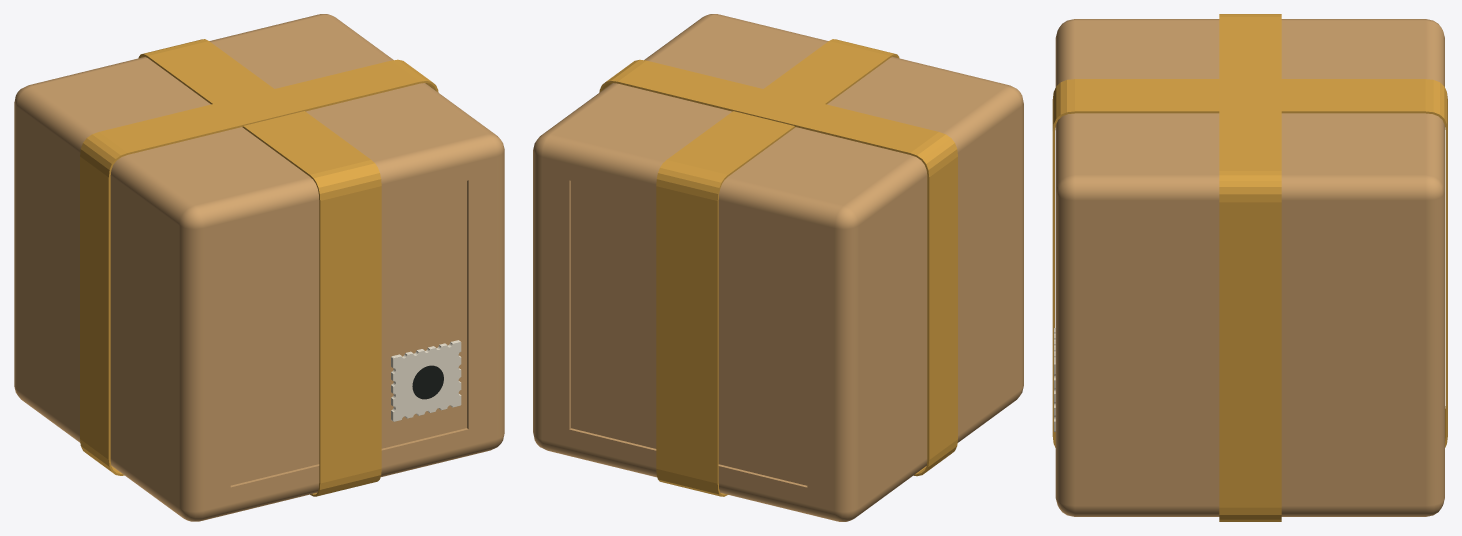
Rendered from play-parcel-small-yellow.glb.
3 renders of one model, left to right at view 1: azimuth 30°, elevation 25°; view 2: azimuth 150°, elevation 25°; view 3: azimuth 270°, elevation 25°, orthographic. The views are drawn at different scales.
Visible parts, largest first — view 1: Parcel_Carton, Parcel_Tape_Continuous_Front_Back, Parcel_Tape_Continuous_Left_Right, Parcel_Paper_Label, Parcel_Label_Circle; view 2: Parcel_Carton, Parcel_Tape_Continuous_Front_Back, Parcel_Tape_Continuous_Left_Right; view 3: Parcel_Carton, Parcel_Tape_Continuous_Left_Right, Parcel_Tape_Continuous_Front_Back.
Part boxes in pixels (x1,y1,x2,y2): Parcel_Carton: (14, 14, 504, 521); Parcel_Tape_Continuous_Front_Back: (138, 39, 381, 496); Parcel_Tape_Continuous_Left_Right: (80, 59, 438, 475); Parcel_Paper_Label: (391, 340, 461, 421); Parcel_Label_Circle: (412, 365, 443, 399); Parcel_Carton: (533, 14, 1023, 521); Parcel_Tape_Continuous_Front_Back: (656, 39, 899, 496); Parcel_Tape_Continuous_Left_Right: (599, 59, 957, 476); Parcel_Carton: (1055, 19, 1444, 516); Parcel_Tape_Continuous_Left_Right: (1219, 14, 1281, 521); Parcel_Tape_Continuous_Front_Back: (1052, 79, 1447, 447).
Bounding box in the file's own units: 0.148 × 0.138 × 0.1423.
